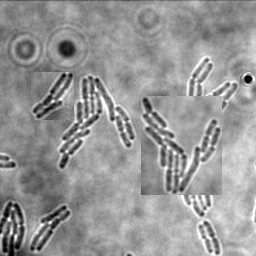Dividing: (204, 219, 222, 255), (199, 223, 215, 253)
Microcolony: (167, 57, 238, 216), (141, 96, 222, 195), (59, 75, 136, 169), (31, 72, 74, 120), (30, 204, 72, 251), (1, 200, 26, 255)
